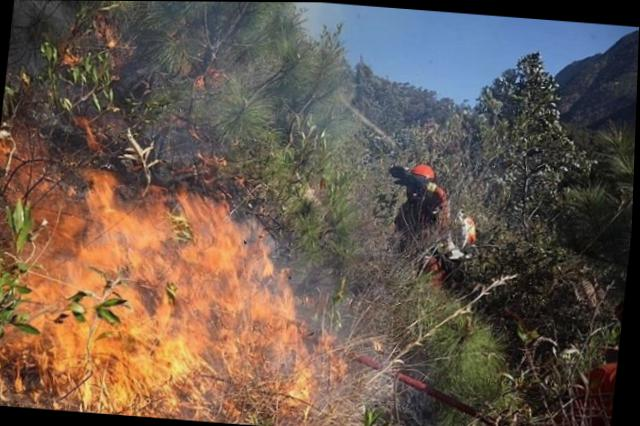fire: (0, 104, 358, 423)
